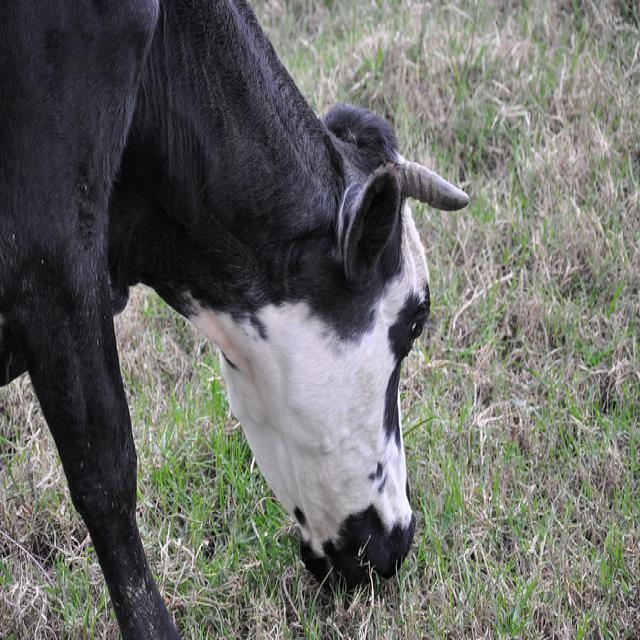cow: (0, 0, 470, 628)
